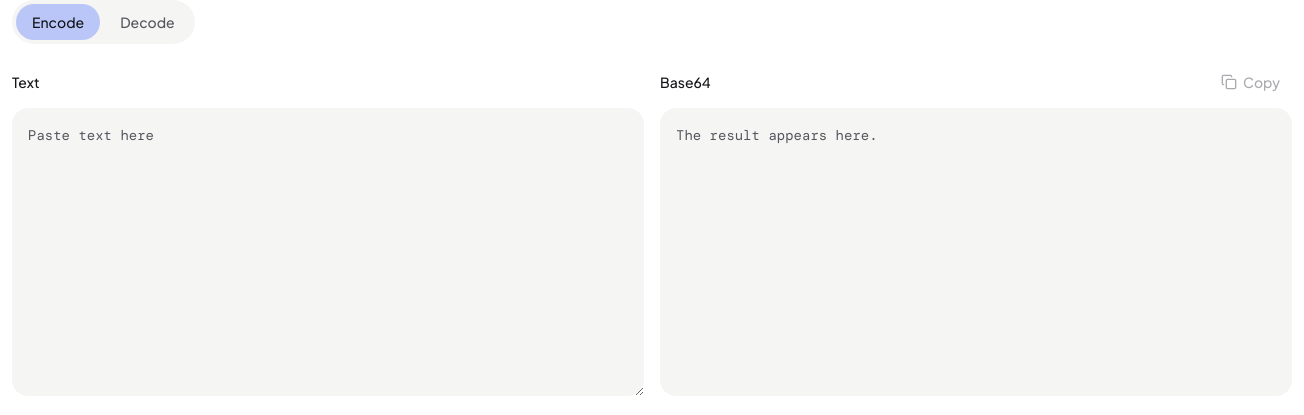
Test case: <Base64Tool /> › should encode what the user types
Step 1. Type "toolhut" into the text box with placeholder "Paste text here" → [328, 252], box x1=12 y1=108 x2=644 y2=396
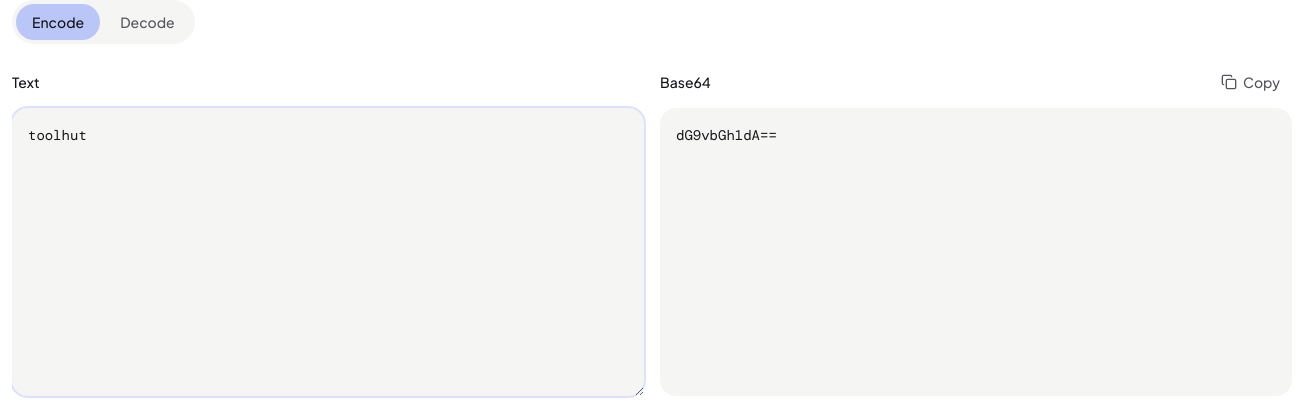
Result: the text "dG9vbGh1dA==" is shown at x1=660 y1=108 x2=1292 y2=396
